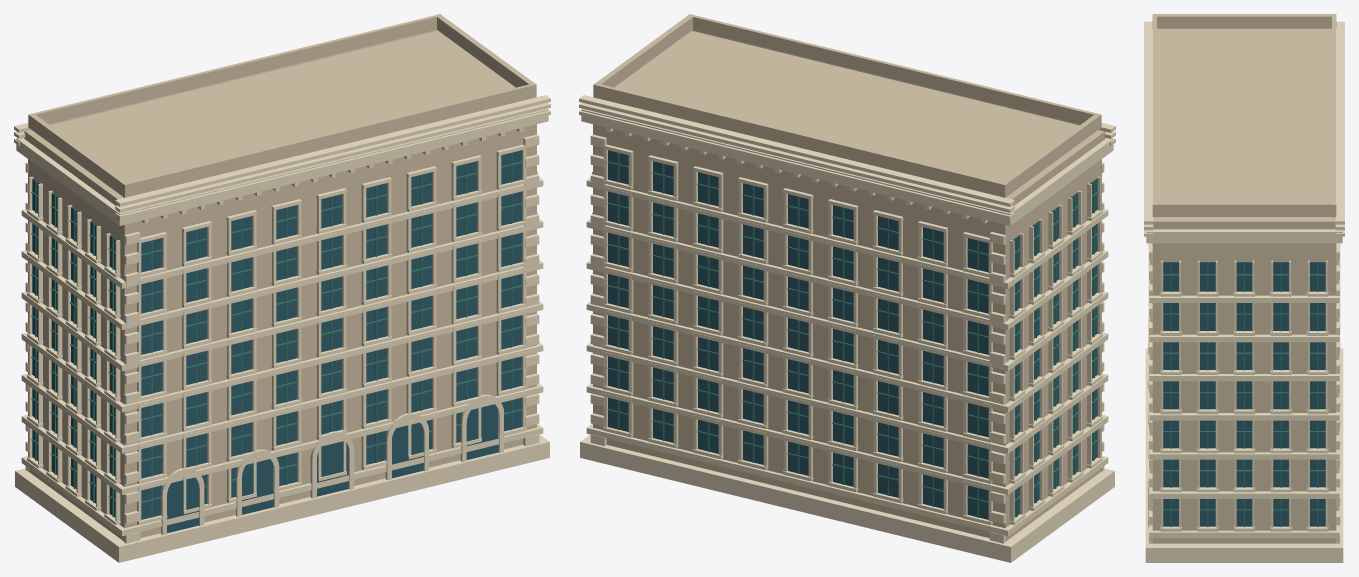
Rendered from lyceum-building.glb.
The picture shows the model from 3 angles, left to right: view 1: azimuth 30°, elevation 25°; view 2: azimuth 150°, elevation 25°; view 3: azimuth 270°, elevation 25°; orthographic projection. The views are drawn at different scales.
Parts seen in each view (by area): view 1: lyceum-building; view 2: lyceum-building; view 3: lyceum-building.
Boxes of the visible parts, bbox=[...] form: lyceum-building: bbox=[14, 14, 550, 562]; lyceum-building: bbox=[579, 14, 1115, 562]; lyceum-building: bbox=[1144, 14, 1344, 562].
Bounding box in the file's own units: 28.79 × 23.8 × 12.25.
